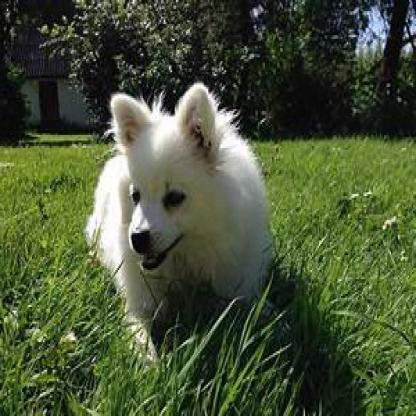dog: (83, 89, 272, 370)
